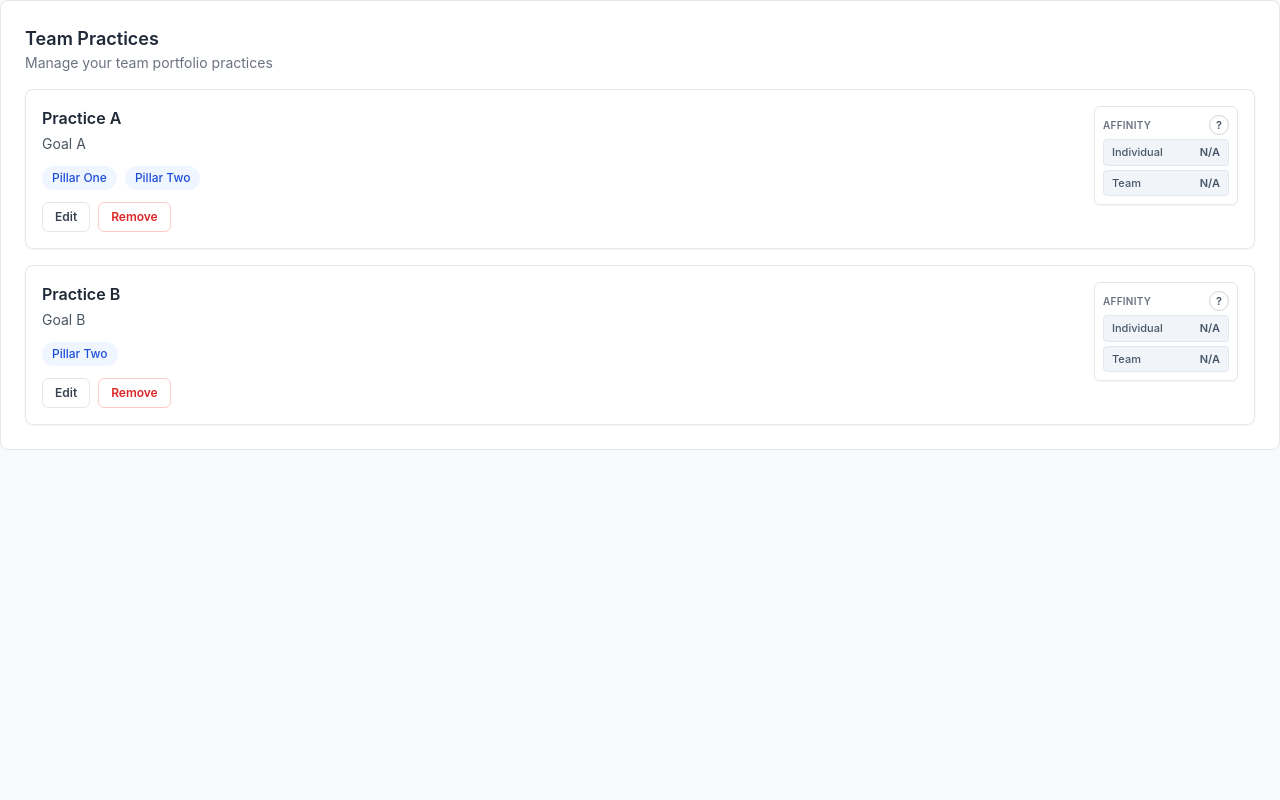
Test: TeamPracticesPanel › shows impacted pillars in confirmation dialog
Expected: the heading "Practice A" is shown, [42, 108, 121, 128]
Click the 1st button "Remove": (134, 217) [98, 202, 171, 232]
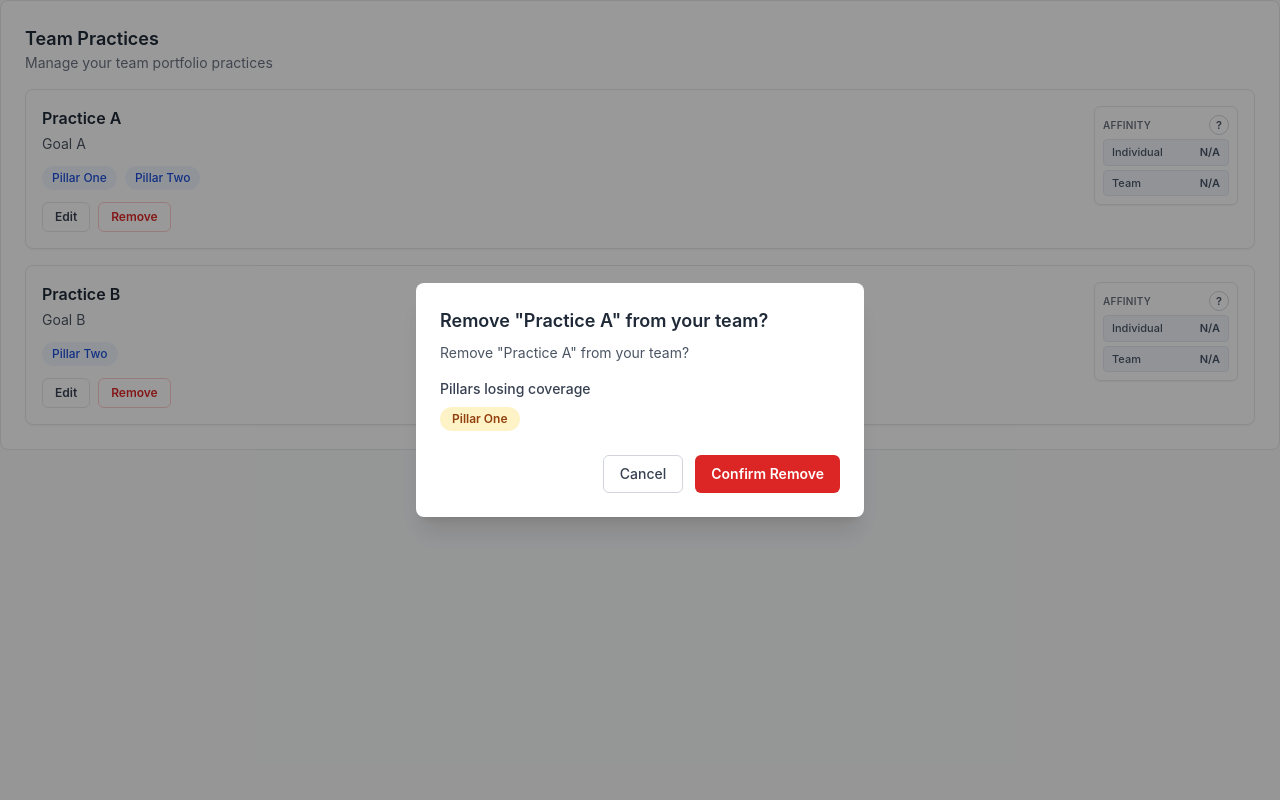
Result: the text "Pillars losing coverage" is shown at [440, 380, 591, 397]
Result: the text "Pillar One" is shown at [440, 407, 520, 431]
